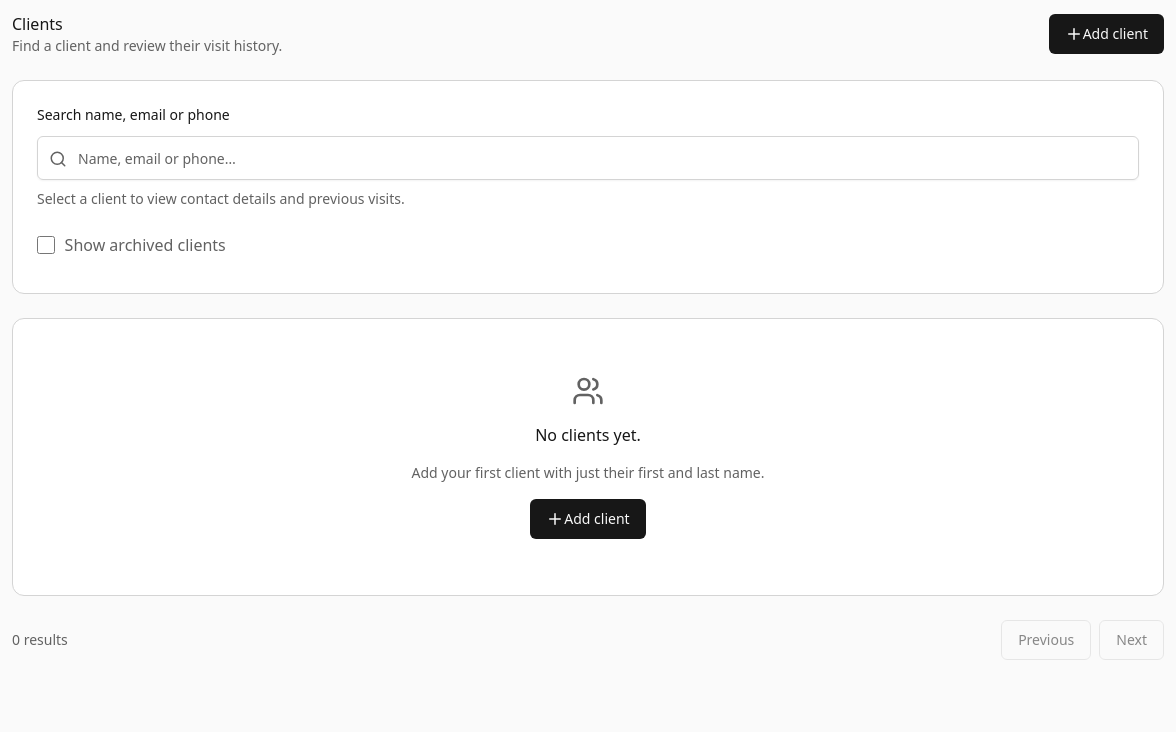
empty and no-match lists
This screenshot has width=1176, height=732.
expect the heading "No clients yet." is shown: met, box [535,423,641,447]
Step 1. Type "Nobody" into the search field labelled "Search name, email or phone" → [588, 158], box [37,136,1139,180]
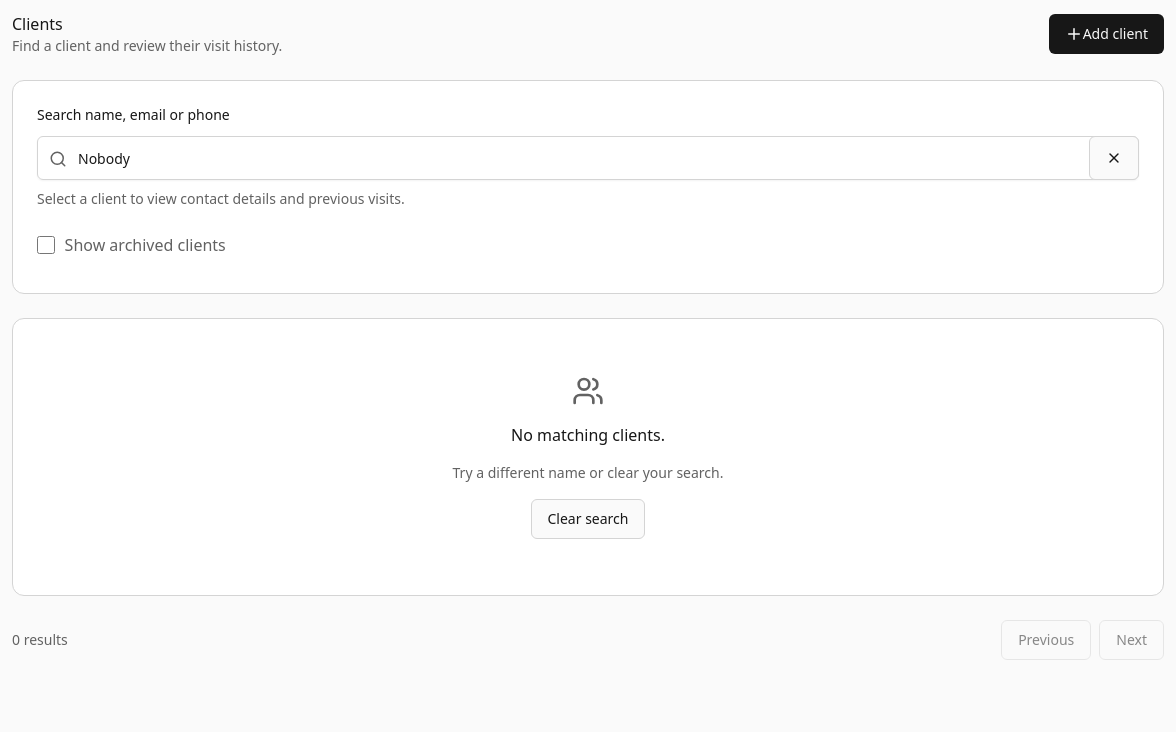
expect the heading "No matching clients." is shown: met, box [511,423,665,447]
